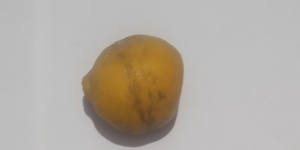BAD: (81, 33, 184, 133)
